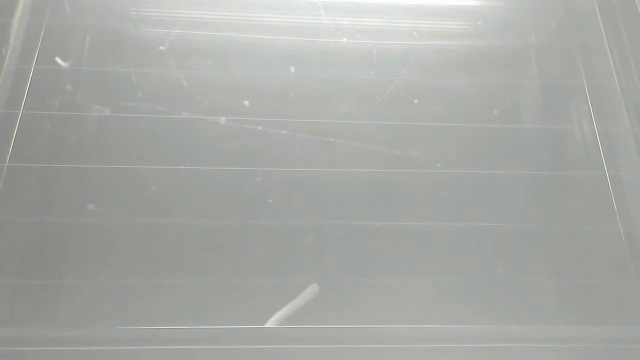alpha: (262, 281, 326, 330), (51, 50, 75, 73)
